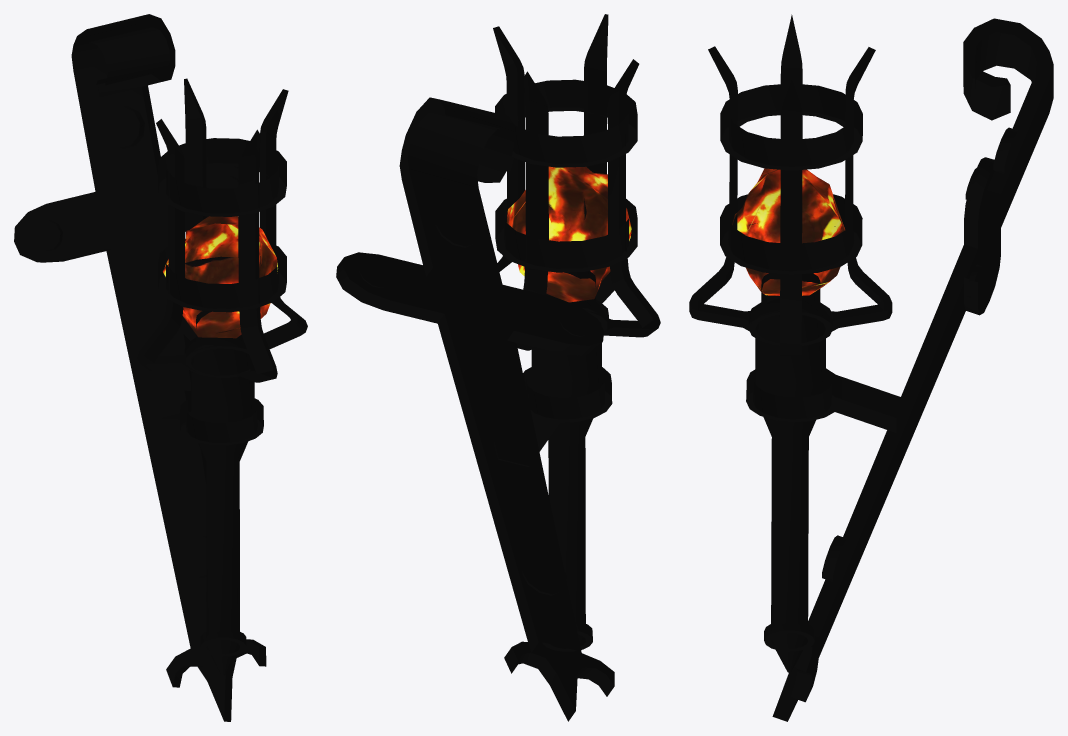
Rendered from torch.glb.
3 views of the same model, side by side, from view 1: azimuth 30°, elevation 25°; view 2: azimuth 150°, elevation 25°; view 3: azimuth 270°, elevation 25° (orthographic). The views are drawn at different scales.
Visible parts, largest first — view 1: torch; view 2: torch; view 3: torch.
Part boxes in pixels (left/top/right/bottom): torch: left=14, top=14, right=307, bottom=721; torch: left=336, top=14, right=660, bottom=721; torch: left=689, top=14, right=1053, bottom=721.
Bounding box in the file's own units: 40.86 × 104 × 49.83.
Materials: 1 (1 with a texture image).
